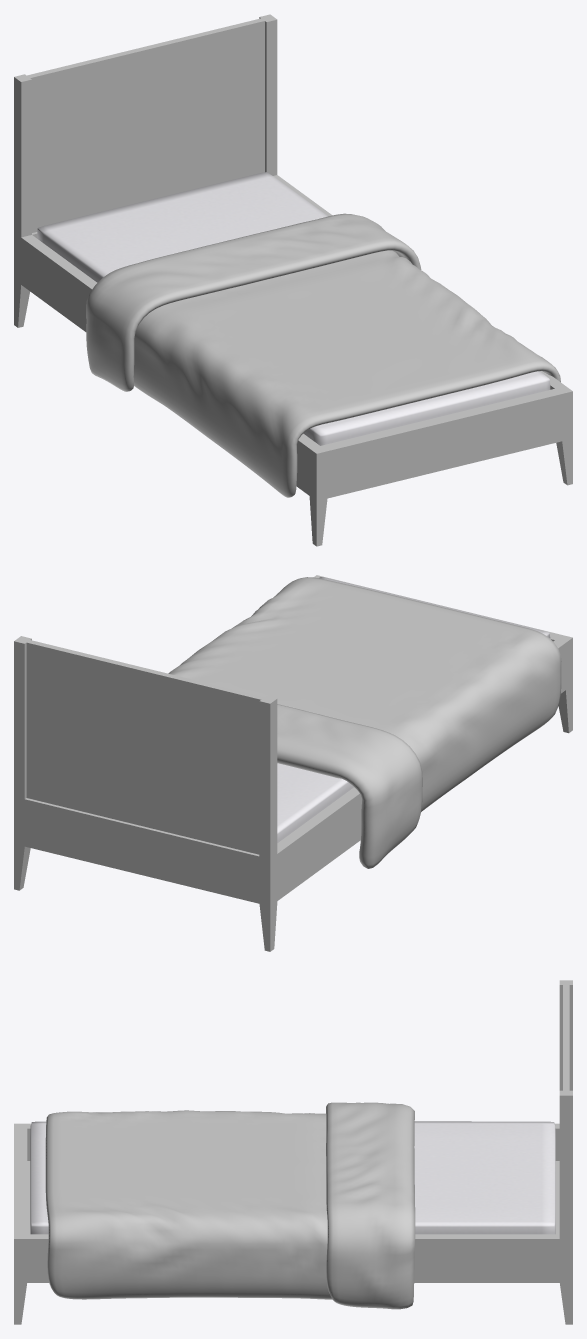
The model's file is Bed05.fbx.
3 views of the same model, one above another, from view 1: azimuth 30°, elevation 25°; view 2: azimuth 150°, elevation 25°; view 3: azimuth 270°, elevation 25° (orthographic). The views are drawn at different scales.
Visible parts, largest first — view 1: Blanket05, BedFrame05, Mattress05; view 2: BedFrame05, Blanket05, Mattress05; view 3: Blanket05, Mattress05, BedFrame05.
Part boxes in pixels (bbox=[...]): Blanket05: bbox=[86, 213, 560, 497]; BedFrame05: bbox=[14, 14, 572, 546]; Mattress05: bbox=[37, 172, 550, 445]; BedFrame05: bbox=[14, 575, 572, 951]; Blanket05: bbox=[168, 577, 561, 868]; Mattress05: bbox=[277, 577, 550, 842]; Blanket05: bbox=[45, 1102, 415, 1309]; Mattress05: bbox=[30, 1121, 555, 1234]; BedFrame05: bbox=[14, 980, 572, 1324].
Size of the model in its own units: 128 by 101 by 224.
